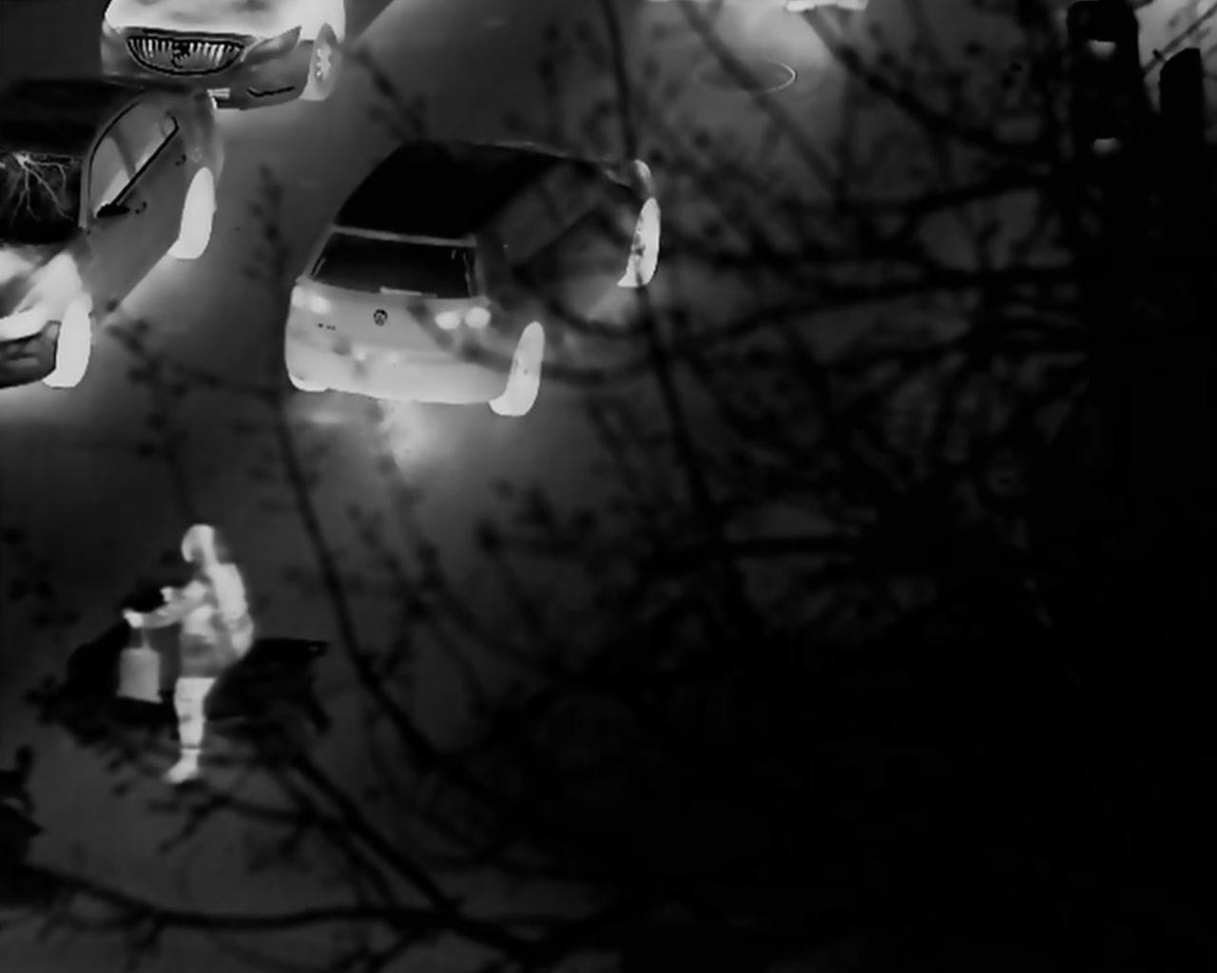person: (134, 524, 252, 767)
